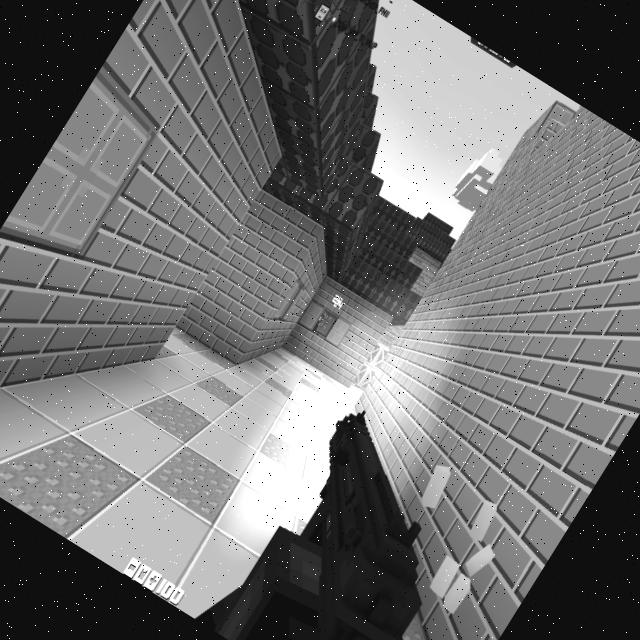Head: (318, 313, 323, 320)
Player: (311, 313, 323, 333)
